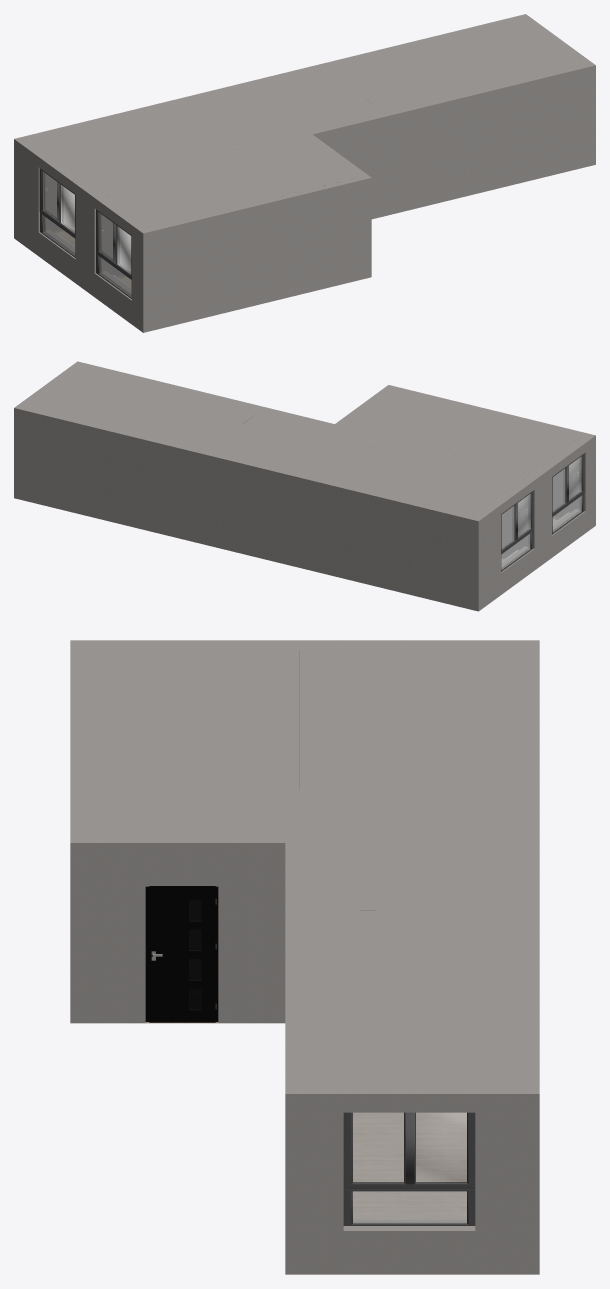
Rendered from apt-2room-3.glb.
3 renders of one model, top to bottom at view 1: azimuth 30°, elevation 25°; view 2: azimuth 150°, elevation 25°; view 3: azimuth 270°, elevation 25°, orthographic. The views are drawn at different scales.
Visible parts, largest first — view 1: Walls, Ceiling, B_1_4_1_Exterior_Glass.002, B_1_4_1_Exterior_Glass.004, B_1_4_1_Exterior_Glass.005, B_1_4_1_Exterior_Glass.003, B_2_4_1Exterior_Glass.002, B_2_4_1Exterior_Glass.004, B_2_4_2_Exterior_Glass..002, B_2_4_2_Exterior_Glass..004, B_2_4_1Exterior_Glass.003, B_2_4_1Exterior_Glass.005 (+2 smaller); view 2: Walls, Ceiling, B_2_4_1Exterior_Glass.002, B_1_4_1_Exterior_Glass.002, B_1_4_1_Exterior_Glass.004, B_2_4_1Exterior_Glass.004, B_2_4_1Exterior_Glass.003, B_2_4_1Exterior_Glass.005, B_1_4_1_Exterior_Glass.003, B_1_4_1_Exterior_Glass.005, B_2_4_2_Exterior_Glass..002, B_2_4_2_Exterior_Glass..004 (+3 smaller); view 3: Ceiling, Walls, Floor, Stainless Steel modern door, B_1_4_1_Exterior_Glass, B_1_4_1_Exterior_Glass.001, B_2_4_1Exterior_Glass, B_2_4_1Exterior_Glass.001, B_2_4_2_Exterior_Glass., B_2_4_2_Exterior_Glass..001, B_2_1_1_PVC_Window_Frame, B_1_1_1_PVC_Window_Frame. (+1 smaller).
Part boxes in pixels (x1,y1,x2,y2): Walls: (14,14,595,332); Ceiling: (30,20,578,227); B_1_4_1_Exterior_Glass.002: (43,216,74,254); B_1_4_1_Exterior_Glass.004: (100,257,131,296); B_1_4_1_Exterior_Glass.005: (100,257,131,296); B_1_4_1_Exterior_Glass.003: (43,216,74,254); B_2_4_1Exterior_Glass.002: (61,185,74,232); B_2_4_1Exterior_Glass.004: (117,226,130,273); B_2_4_2_Exterior_Glass..002: (43,172,56,219); B_2_4_2_Exterior_Glass..004: (99,213,112,260); B_2_4_1Exterior_Glass.003: (61,185,74,232); B_2_4_1Exterior_Glass.005: (117,226,130,273); Walls: (14,361,595,611); Ceiling: (30,367,581,515); B_2_4_1Exterior_Glass.002: (518,494,530,536); B_1_4_1_Exterior_Glass.002: (501,534,529,569); B_1_4_1_Exterior_Glass.004: (553,496,581,531); B_2_4_1Exterior_Glass.004: (569,457,581,499); B_2_4_1Exterior_Glass.003: (518,494,530,536); B_2_4_1Exterior_Glass.005: (569,457,581,499); B_1_4_1_Exterior_Glass.003: (501,534,529,569); B_1_4_1_Exterior_Glass.005: (553,496,581,531); B_2_4_2_Exterior_Glass..002: (502,506,513,548); B_2_4_2_Exterior_Glass..004: (553,469,564,511); Ceiling: (83,650,521,1082); Walls: (70,640,539,1274); Floor: (145,1022,466,1219); Stainless Steel modern door: (145,886,218,1022); B_1_4_1_Exterior_Glass: (353,1191,466,1223); B_1_4_1_Exterior_Glass.001: (353,1191,466,1223); B_2_4_1Exterior_Glass: (416,1113,466,1182); B_2_4_1Exterior_Glass.001: (416,1113,466,1182); B_2_4_2_Exterior_Glass.: (353,1113,403,1182); B_2_4_2_Exterior_Glass..001: (353,1113,403,1182); B_2_1_1_PVC_Window_Frame: (343,1112,475,1188); B_1_1_1_PVC_Window_Frame.: (343,1189,475,1225).
Bounding box in the file's own units: 15.62 × 2.92 × 6.83.
Materials: 33 (11 with a texture image).
